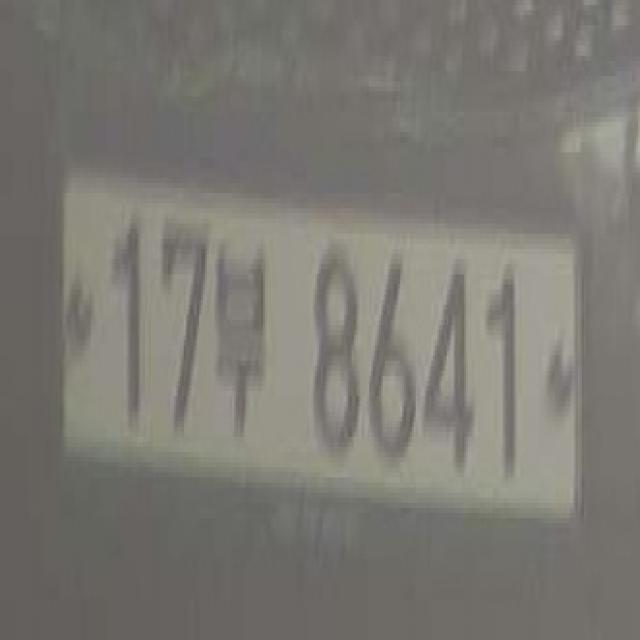1: (102, 203, 154, 432), (483, 259, 526, 488)
4: (423, 244, 478, 493)
6: (367, 234, 418, 472)
7: (158, 208, 207, 447)
8: (308, 239, 362, 467)
bu: (210, 224, 272, 452)
license_plate: (50, 142, 588, 549)
